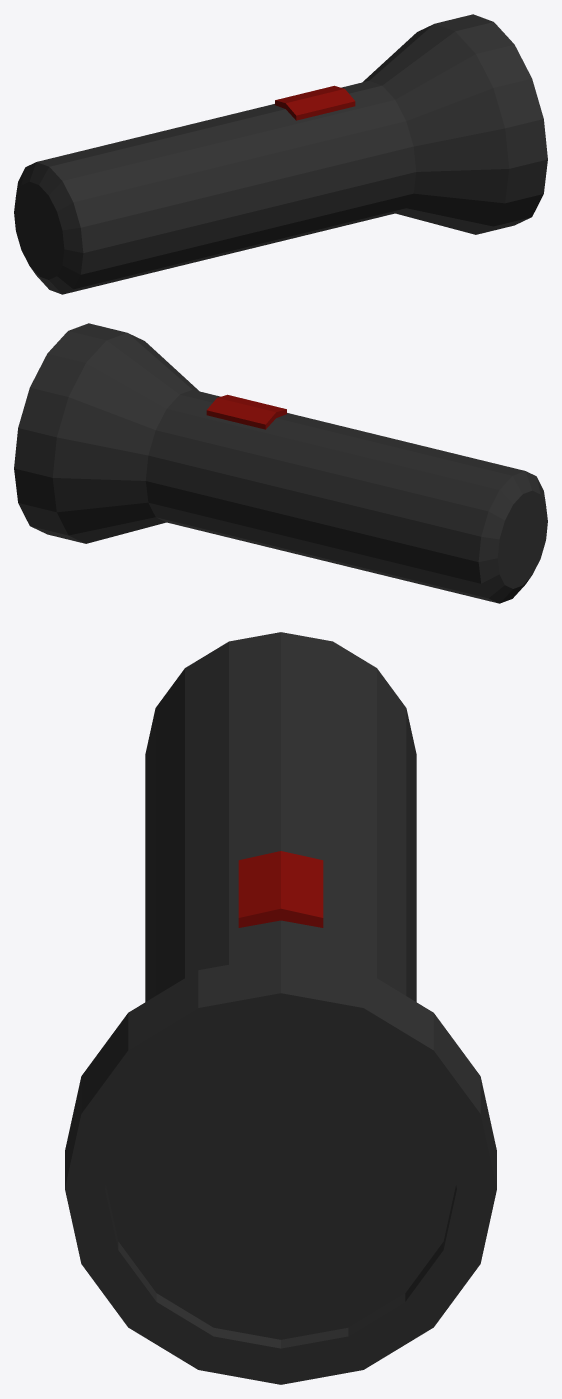
File: flashlight.glb
3 views of the same model, one above another, from view 1: azimuth 30°, elevation 25°; view 2: azimuth 150°, elevation 25°; view 3: azimuth 270°, elevation 25° (orthographic). The views are drawn at different scales.
Visible parts, largest first — view 1: Cylinder; view 2: Cylinder; view 3: Cylinder.
Boxes of the visible parts, bbox=[...] form: Cylinder: bbox=[14, 14, 547, 294]; Cylinder: bbox=[14, 323, 547, 603]; Cylinder: bbox=[65, 632, 496, 1384].
Bounding box in the file's own units: 7.73 × 3.18 × 3.18.
